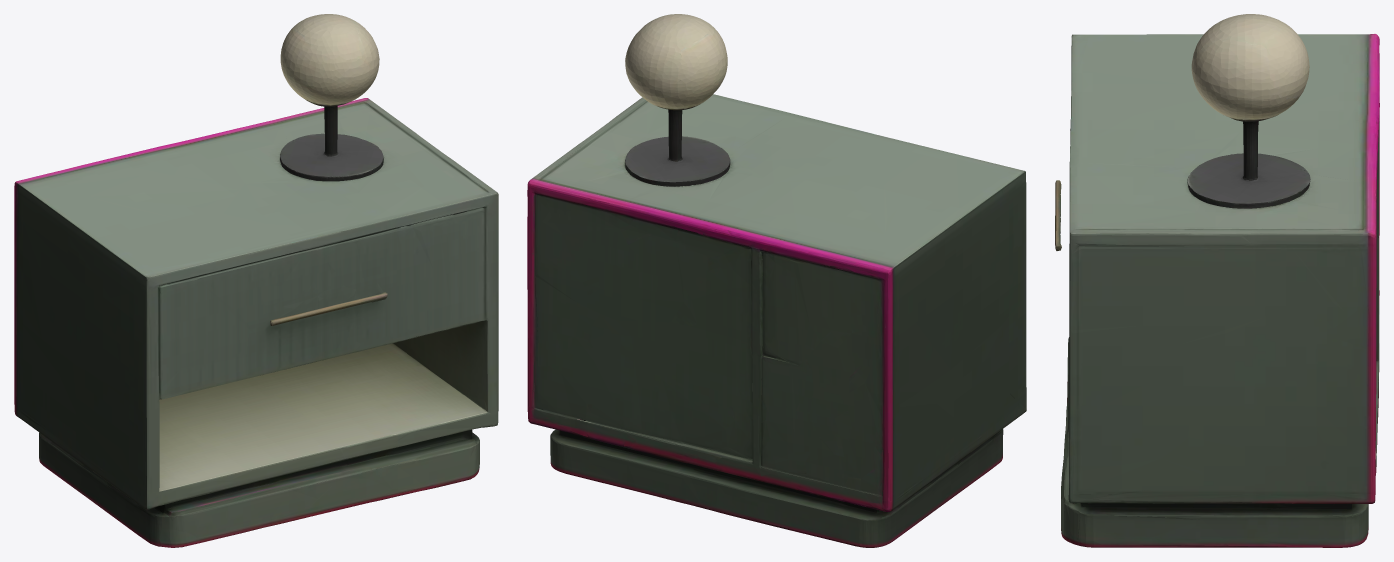
The model's file is nightstand_lamp_green.glb.
3 views of the same model, side by side, from view 1: azimuth 30°, elevation 25°; view 2: azimuth 150°, elevation 25°; view 3: azimuth 270°, elevation 25° (orthographic). The views are drawn at different scales.
Visible parts, largest first — view 1: geometry_0; view 2: geometry_0; view 3: geometry_0.
Boxes of the visible parts, box(x1,y1,x2,y2) form: geometry_0: box(14, 14, 498, 547); geometry_0: box(527, 14, 1026, 547); geometry_0: box(1055, 14, 1379, 547).
Size of the model in its own units: 0.8895 by 1 by 0.6096.
1 material, 1 textured.
